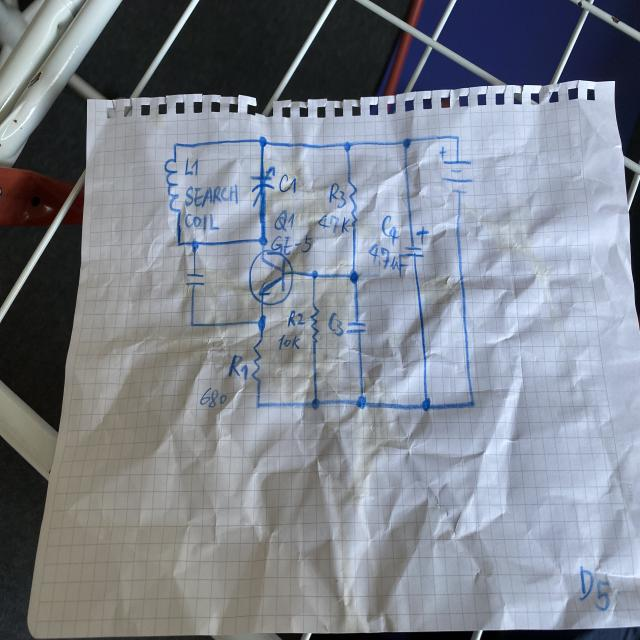capacitor: (249, 165, 277, 207), (400, 224, 429, 261), (183, 271, 206, 289), (346, 319, 367, 335)
inductor: (163, 158, 181, 215)
junction: (354, 393, 368, 411), (348, 269, 360, 285), (256, 314, 267, 331), (257, 133, 269, 148), (401, 135, 412, 151), (420, 398, 432, 412), (310, 396, 321, 411), (342, 138, 353, 153), (309, 268, 320, 282), (258, 234, 268, 248), (190, 238, 199, 252), (174, 238, 183, 249), (468, 398, 476, 409), (188, 319, 196, 329), (172, 140, 180, 150), (255, 400, 262, 410), (454, 133, 461, 142)
resistor: (347, 178, 360, 231), (251, 339, 264, 384), (309, 304, 320, 344)
source: (436, 144, 475, 198)
text: (184, 182, 241, 210), (367, 244, 404, 278), (183, 210, 222, 234), (269, 233, 310, 255), (198, 386, 229, 409), (318, 212, 349, 235), (272, 208, 296, 232), (381, 214, 400, 243), (228, 354, 249, 380), (277, 171, 297, 195), (327, 311, 345, 337), (328, 182, 346, 208), (277, 332, 303, 350), (285, 309, 306, 329), (184, 156, 200, 178)
transistor: (248, 248, 295, 307)
